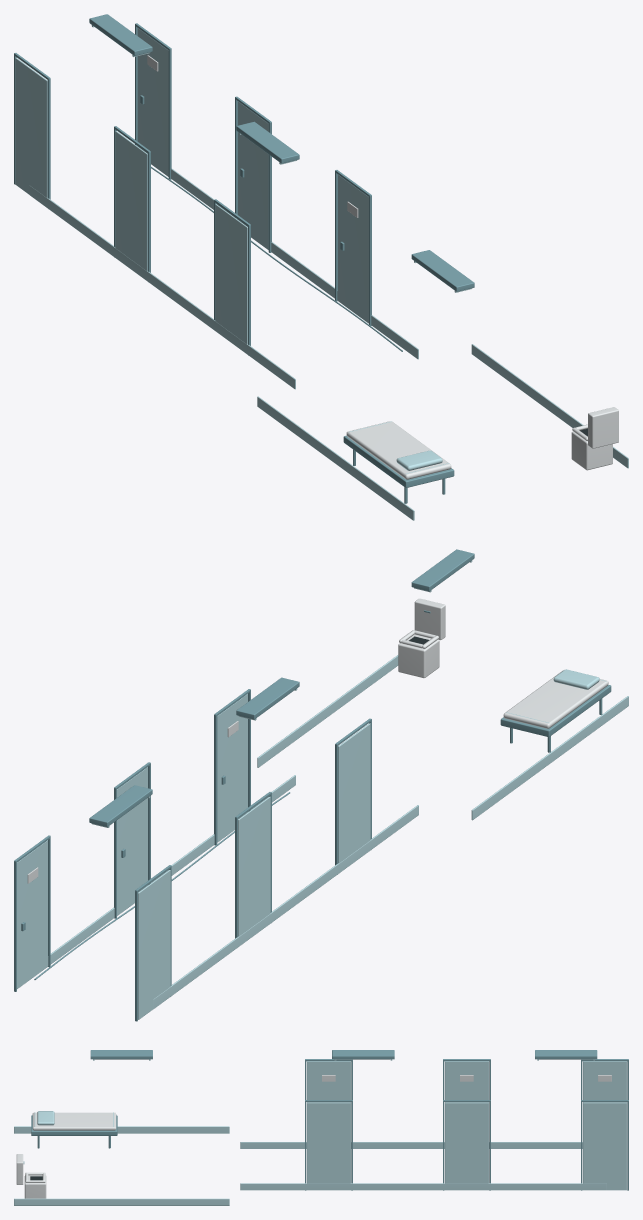
The model's file is cell_corridor.glb.
The picture shows the model from 3 angles, top to bottom: view 1: azimuth 30°, elevation 25°; view 2: azimuth 150°, elevation 25°; view 3: azimuth 270°, elevation 25°; orthographic projection. The views are drawn at different scales.
Visible parts, largest first — view 1: Closed recessed door.003, Closed recessed door.001, Closed recessed door.002, Closed recessed door.004, Closed recessed door, Closed recessed door.005, Corridor cove skirting.001, Thin sealed mattress, Cell cove.001, Corridor cove skirting, Cell cove, Wall cistern (+5 smaller); view 2: Closed recessed door.003, Closed recessed door.002, Closed recessed door.001, Closed recessed door, Closed recessed door.004, Closed recessed door.005, Corridor cove skirting.001, Thin sealed mattress, Cell cove.001, Cell cove, Corridor cove skirting, Toilet enamel plinth (+5 smaller); view 3: Closed recessed door, Closed recessed door.004, Closed recessed door.005, Corridor cove skirting, Corridor cove skirting.001, Cell cove, Closed recessed door.001, Closed recessed door.002, Closed recessed door.003, Thin sealed mattress, Cell cove.001, Fluorescent housing.001 (+6 smaller).
Boxes of the visible parts, x1=… form: Closed recessed door.003: x1=15, y1=57, x2=47, y2=197; Closed recessed door.001: x1=215, y1=204, x2=247, y2=343; Closed recessed door.002: x1=115, y1=131, x2=147, y2=270; Closed recessed door.004: x1=338, y1=174, x2=368, y2=323; Closed recessed door: x1=137, y1=28, x2=168, y2=176; Closed recessed door.005: x1=238, y1=101, x2=268, y2=249; Corridor cove skirting.001: x1=29, y1=185, x2=295, y2=389; Thin sealed mattress: x1=346, y1=421, x2=451, y2=479; Cell cove.001: x1=257, y1=396, x2=414, y2=520; Corridor cove skirting: x1=171, y1=168, x2=418, y2=359; Cell cove: x1=471, y1=344, x2=628, y2=468; Wall cistern: x1=588, y1=407, x2=618, y2=448; Closed recessed door.003: x1=138, y1=870, x2=170, y2=1019; Closed recessed door.002: x1=238, y1=796, x2=270, y2=936; Closed recessed door.001: x1=338, y1=723, x2=370, y2=863; Closed recessed door: x1=17, y1=840, x2=47, y2=988; Closed recessed door.004: x1=217, y1=694, x2=247, y2=842; Closed recessed door.005: x1=117, y1=767, x2=147, y2=915; Corridor cove skirting.001: x1=153, y1=805, x2=418, y2=1009; Thin sealed mattress: x1=503, y1=670, x2=608, y2=728; Cell cove.001: x1=471, y1=696, x2=628, y2=820; Cell cove: x1=257, y1=655, x2=398, y2=767; Corridor cove skirting: x1=48, y1=775, x2=295, y2=966; Toilet enamel plinth: x1=398, y1=634, x2=439, y2=678; Closed recessed door: x1=583, y1=1102, x2=626, y2=1190; Closed recessed door.004: x1=307, y1=1102, x2=350, y2=1183; Closed recessed door.005: x1=445, y1=1102, x2=488, y2=1183; Corridor cove skirting: x1=240, y1=1183, x2=606, y2=1190; Corridor cove skirting.001: x1=240, y1=1142, x2=582, y2=1148; Cell cove: x1=14, y1=1198, x2=229, y2=1205; Closed recessed door.001: x1=307, y1=1061, x2=350, y2=1102; Closed recessed door.002: x1=445, y1=1061, x2=488, y2=1102; Closed recessed door.003: x1=583, y1=1061, x2=626, y2=1102; Thin sealed mattress: x1=32, y1=1112, x2=116, y2=1130; Cell cove.001: x1=14, y1=1126, x2=229, y2=1133; Fluorescent housing.001: x1=332, y1=1050, x2=394, y2=1059.
Size of the model in its own units: 3.99 by 3 by 14.26.
